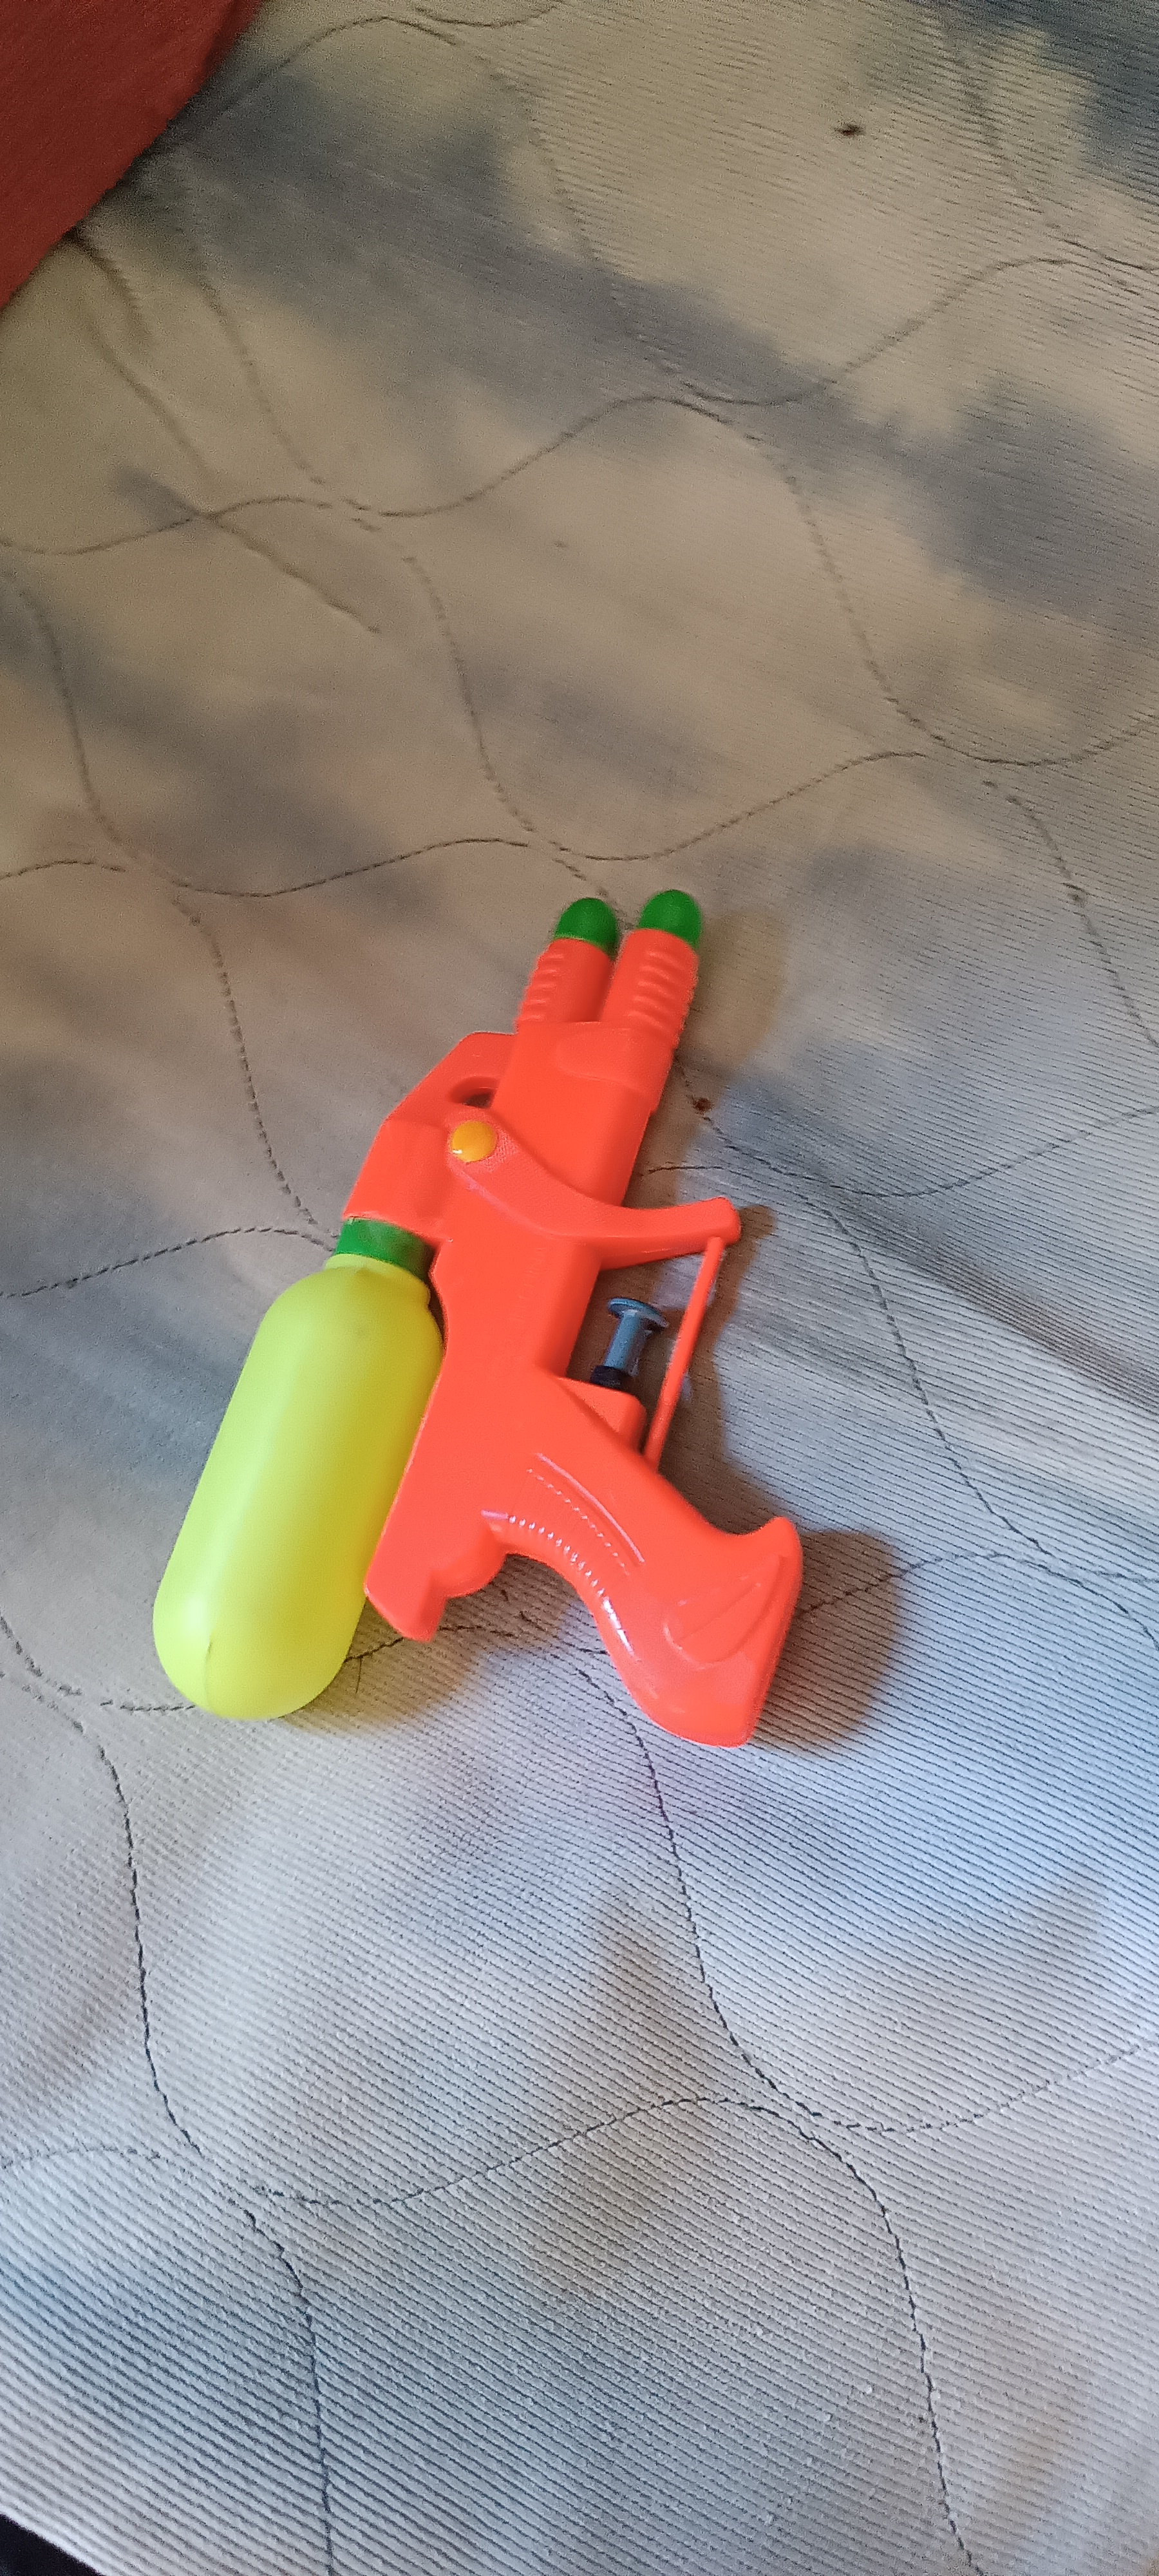Water Gun: (151, 892, 804, 1751)
